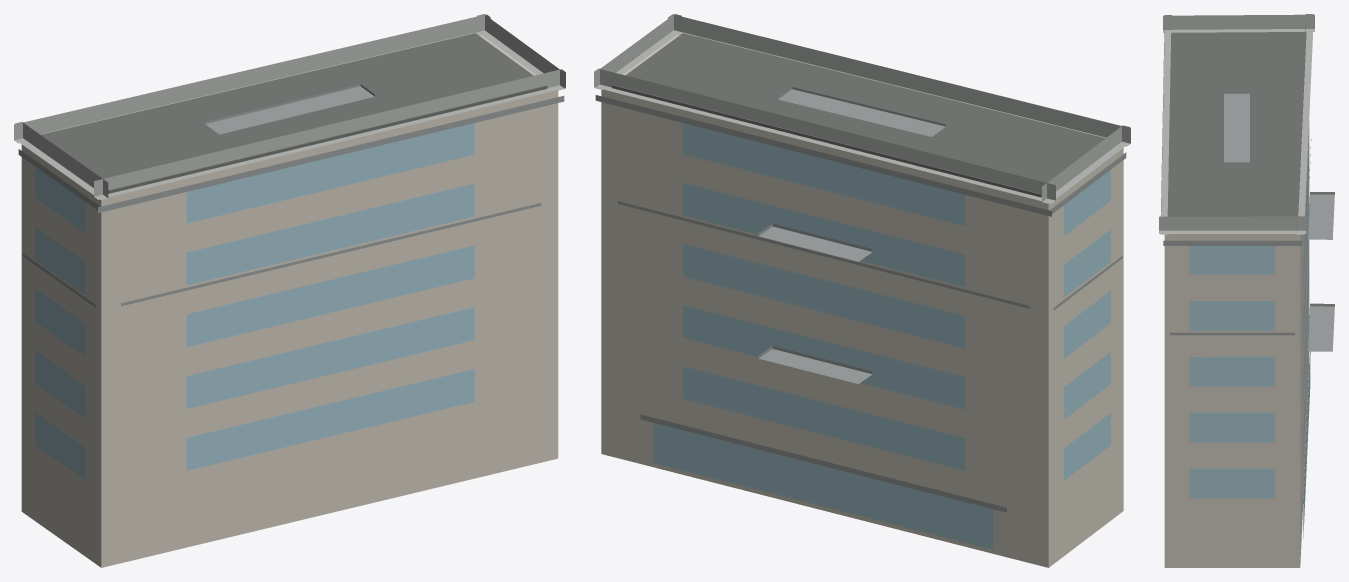
3 renders of one model, left to right at view 1: azimuth 30°, elevation 25°; view 2: azimuth 150°, elevation 25°; view 3: azimuth 270°, elevation 25°, orthographic. The views are drawn at different scales.
Parts seen in each view (by area): view 1: building-1745-mesh-0, building-1745-mesh-1, building-1745-mesh-4, building-1745-mesh-5, building-1745-mesh-2, building-1745-mesh-6; view 2: building-1745-mesh-0, building-1745-mesh-1, building-1745-mesh-4, building-1745-mesh-5, building-1745-mesh-2, building-1745-mesh-3, building-1745-mesh-6; view 3: building-1745-mesh-0, building-1745-mesh-4, building-1745-mesh-1, building-1745-mesh-5, building-1745-mesh-3, building-1745-mesh-6, building-1745-mesh-2.
Part boxes in pixels (box(x1,y1,x2,y2)): building-1745-mesh-0: box(21, 35, 558, 567); building-1745-mesh-1: box(35, 123, 474, 479); building-1745-mesh-4: box(40, 33, 547, 193); building-1745-mesh-5: box(14, 14, 565, 199); building-1745-mesh-2: box(18, 96, 564, 307); building-1745-mesh-6: box(205, 84, 374, 134); building-1745-mesh-0: box(601, 35, 1123, 567); building-1745-mesh-1: box(654, 123, 1110, 549); building-1745-mesh-4: box(612, 33, 1105, 197); building-1745-mesh-5: box(594, 14, 1130, 203); building-1745-mesh-2: box(595, 95, 1126, 512); building-1745-mesh-3: box(758, 223, 872, 383); building-1745-mesh-6: box(778, 87, 945, 136); building-1745-mesh-0: box(1164, 121, 1309, 567); building-1745-mesh-4: box(1167, 32, 1306, 216); building-1745-mesh-1: box(1189, 143, 1310, 537); building-1745-mesh-5: box(1159, 14, 1314, 234); building-1745-mesh-3: box(1308, 192, 1334, 351); building-1745-mesh-6: box(1224, 91, 1249, 162); building-1745-mesh-2: box(1163, 139, 1311, 502).
Size of the model in its own units: 26.52 by 20.95 by 9.54.
